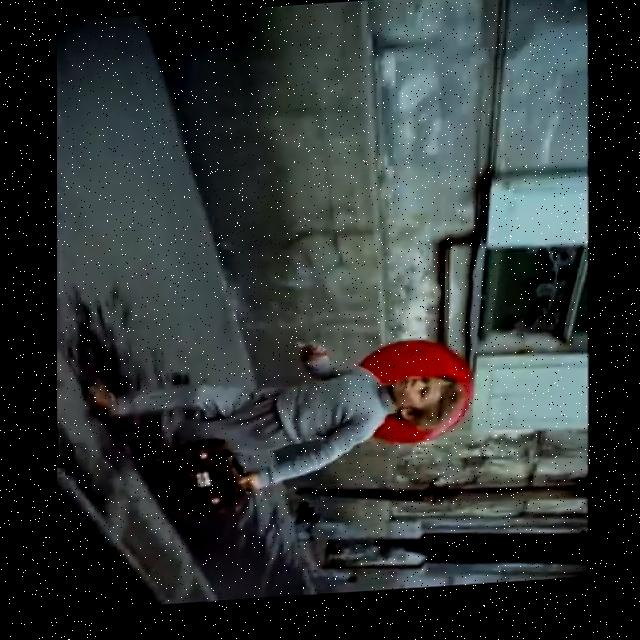balloon: (359, 341, 473, 452)
